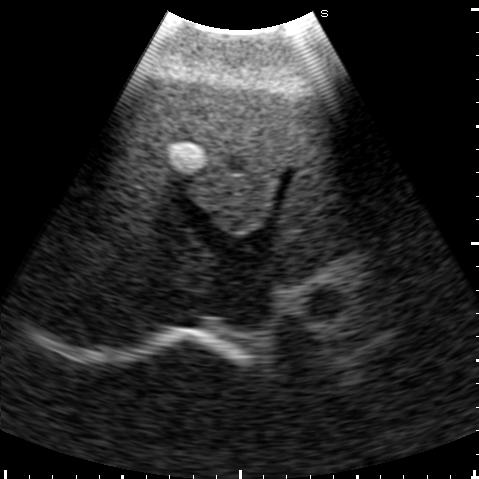S2: (276, 133, 355, 282)
S4: (125, 79, 306, 234)
S7: (39, 227, 152, 350)
S8: (80, 149, 213, 288)
Tumor: (169, 142, 206, 173)
